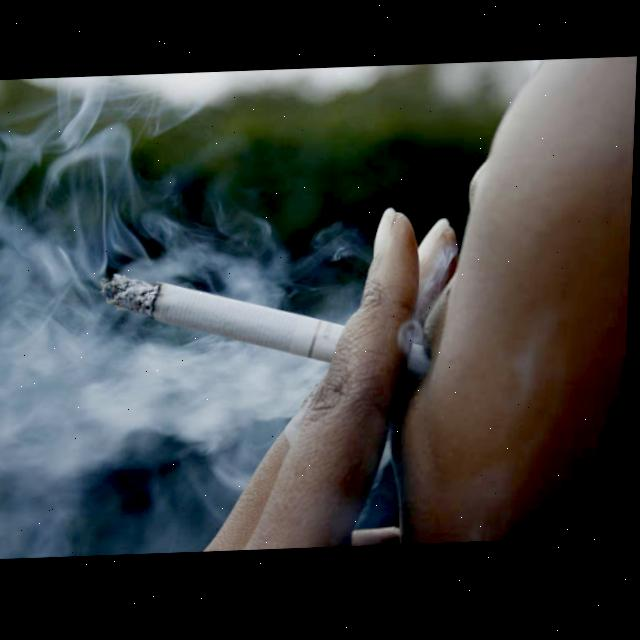cigarette: (98, 268, 351, 373)
